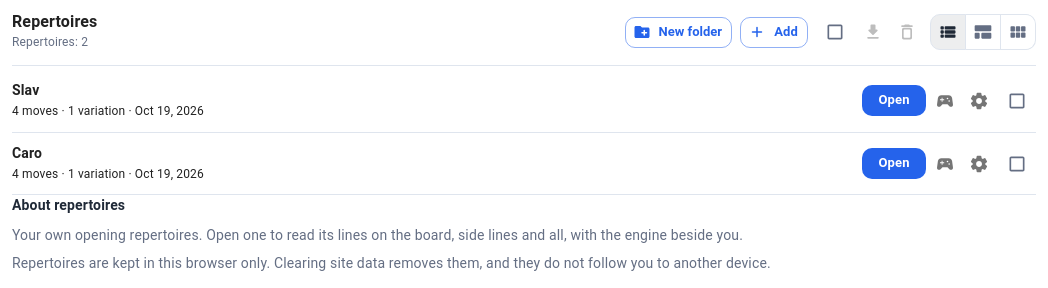
it: the Repertoires list › picks rows for export in the list view
Click the checkbox named "Select Caro".
click(1017, 164)  # box [1007,154,1027,174]
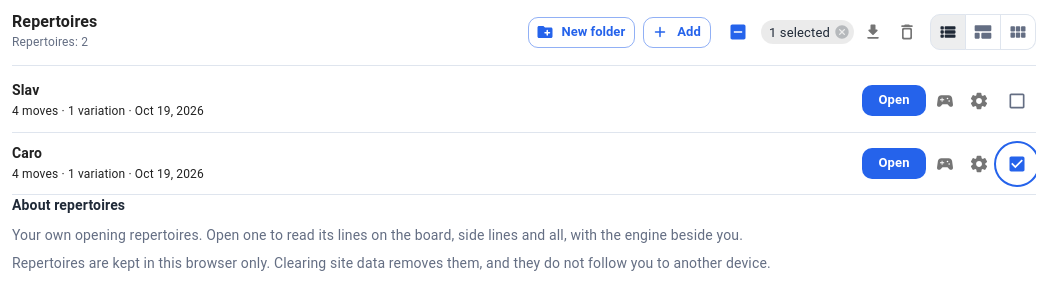
Result: the button with test id "repertoires-selected-count" shows "1" at [761,20,854,44]
Click the checkbox named "Select all repertoires".
click(738, 32)  # box [728,22,748,42]
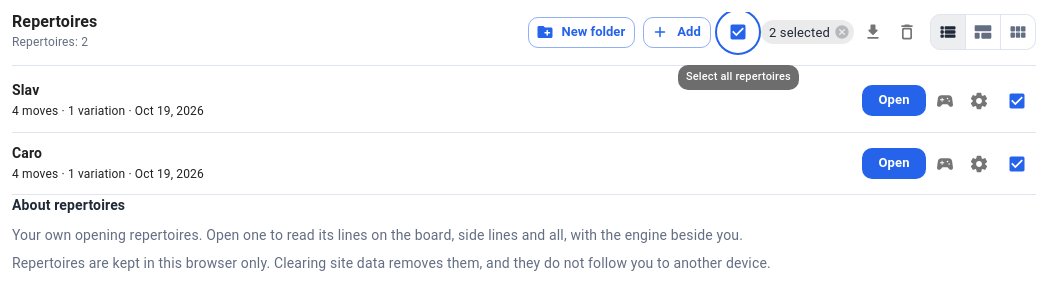
Result: the button with test id "repertoires-download" is enabled at [858,17,888,47]
Result: the button with test id "repertoires-selected-count" shows "2" at [761,20,854,44]
